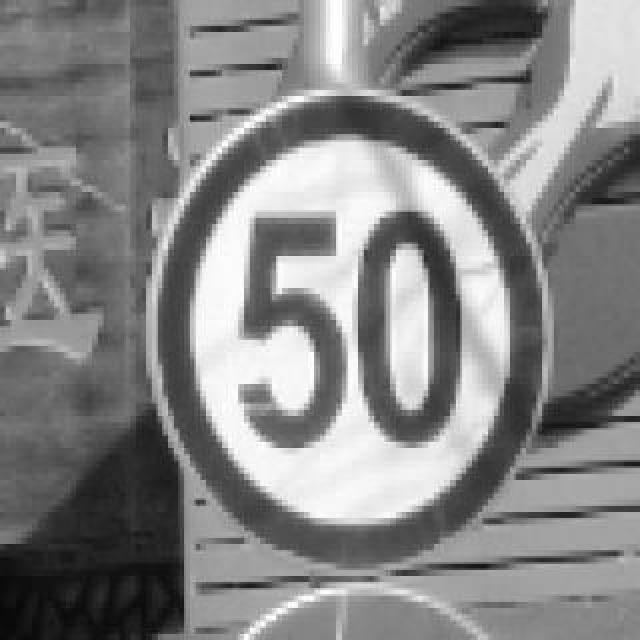50 kph: (142, 82, 542, 570)
